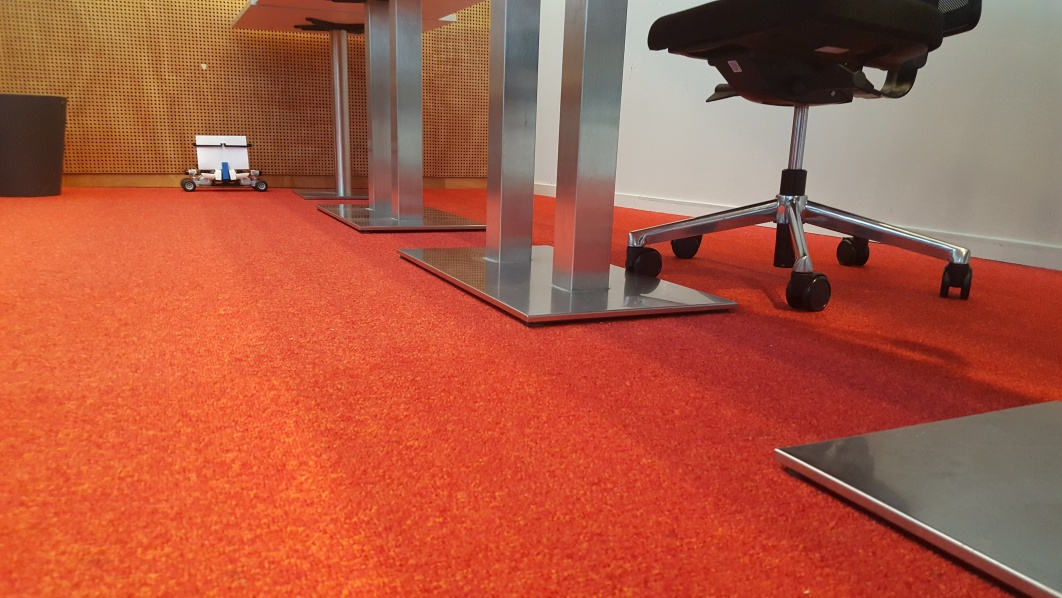car: (182, 136, 267, 190)
